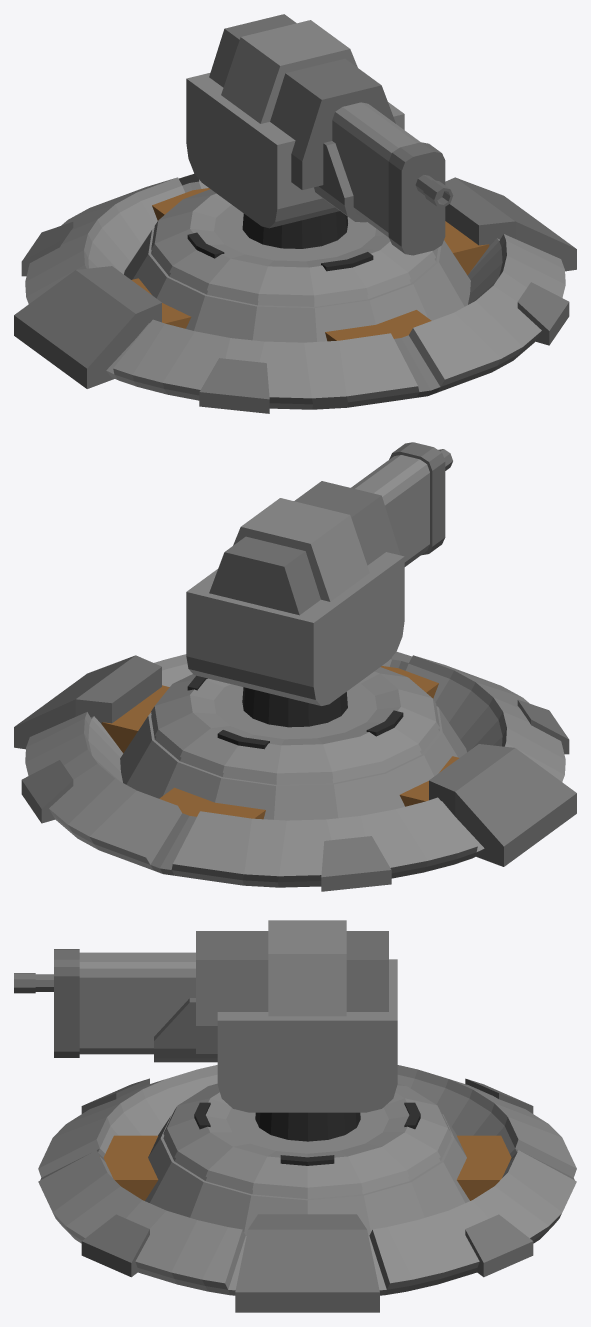
File: Turret_Gun.glb
The picture shows the model from 3 angles, top to bottom: view 1: azimuth 30°, elevation 25°; view 2: azimuth 150°, elevation 25°; view 3: azimuth 270°, elevation 25°; orthographic projection.
Parts seen in each view (by area): view 1: Turret_Gun_Base, Turret_Gun_Top; view 2: Turret_Gun_Base, Turret_Gun_Top; view 3: Turret_Gun_Base, Turret_Gun_Top.
Boxes of the visible parts, <box> form: Turret_Gun_Base: <box>14,173,576,413</box>; Turret_Gun_Top: <box>186,14,453,255</box>; Turret_Gun_Base: <box>14,651,576,891</box>; Turret_Gun_Top: <box>186,442,452,727</box>; Turret_Gun_Base: <box>38,1065,576,1312</box>; Turret_Gun_Top: <box>14,920,397,1141</box>.
Bounding box in the file's own units: 1.16 × 0.5869 × 1.16.
